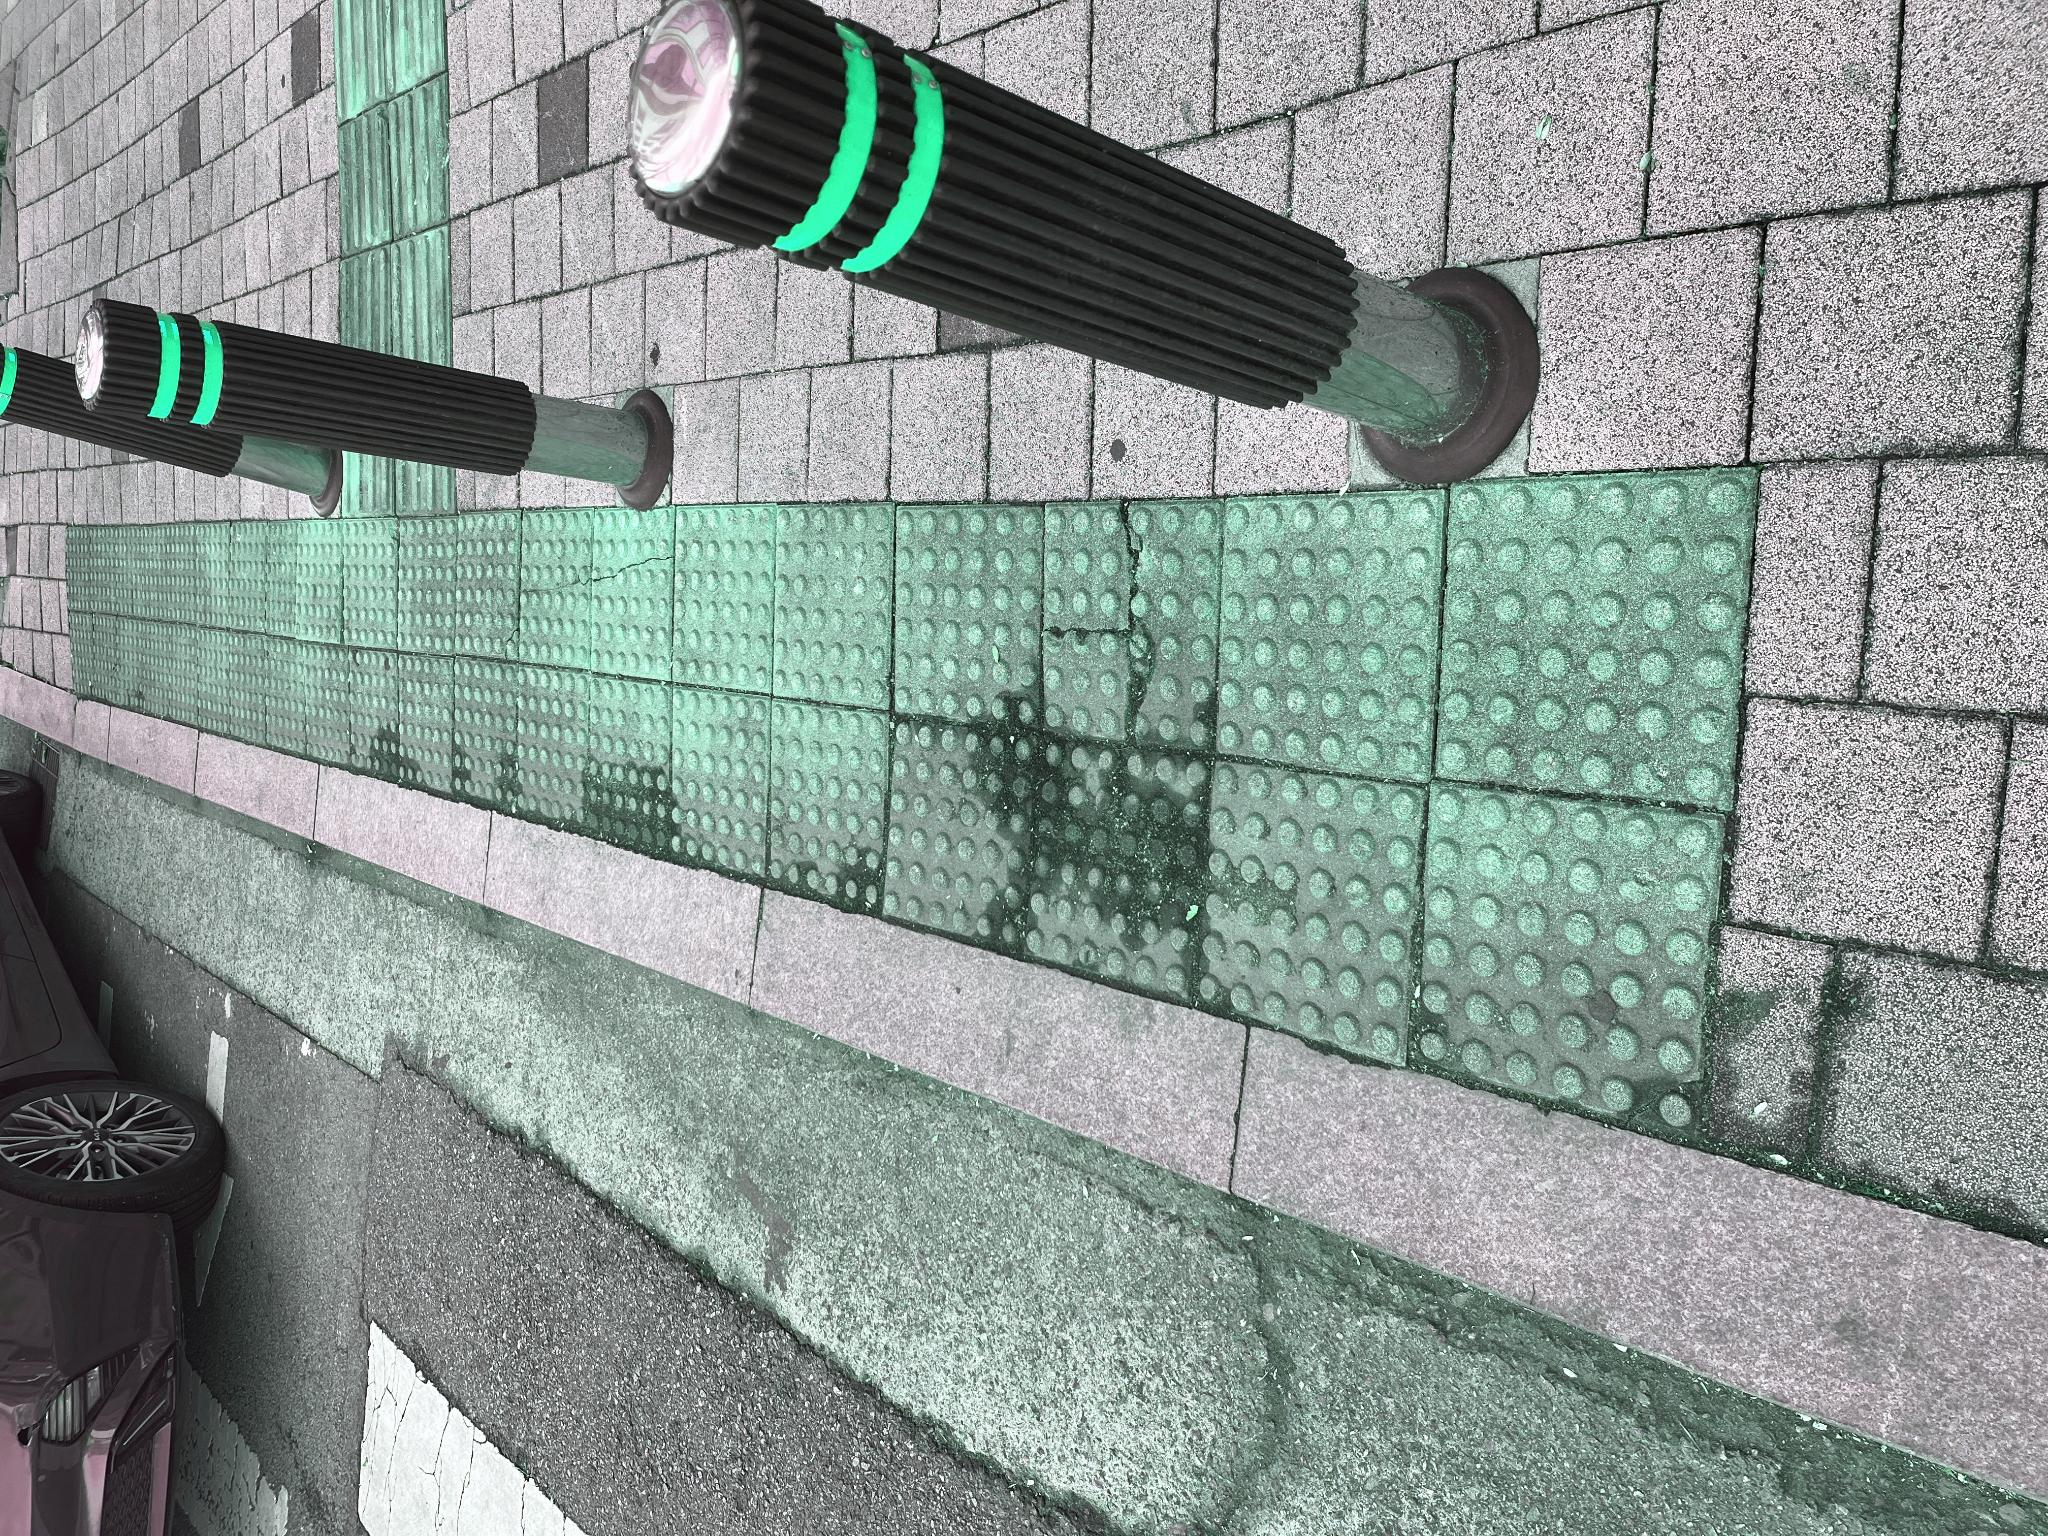Stop block broken: (785, 1044, 1035, 1221), (856, 592, 1026, 673)
Stop block normal: (442, 1413, 753, 1536), (808, 895, 1029, 1042), (827, 773, 1032, 892), (656, 671, 850, 770)
